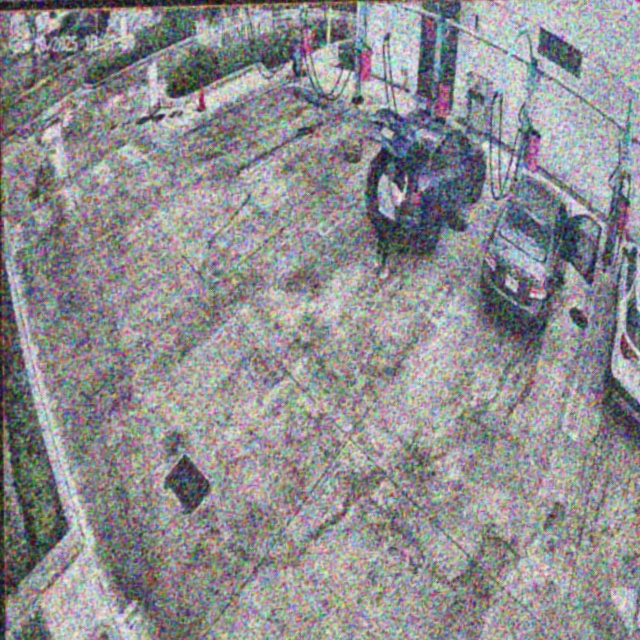Car: (360, 96, 492, 257), (475, 171, 604, 331)
